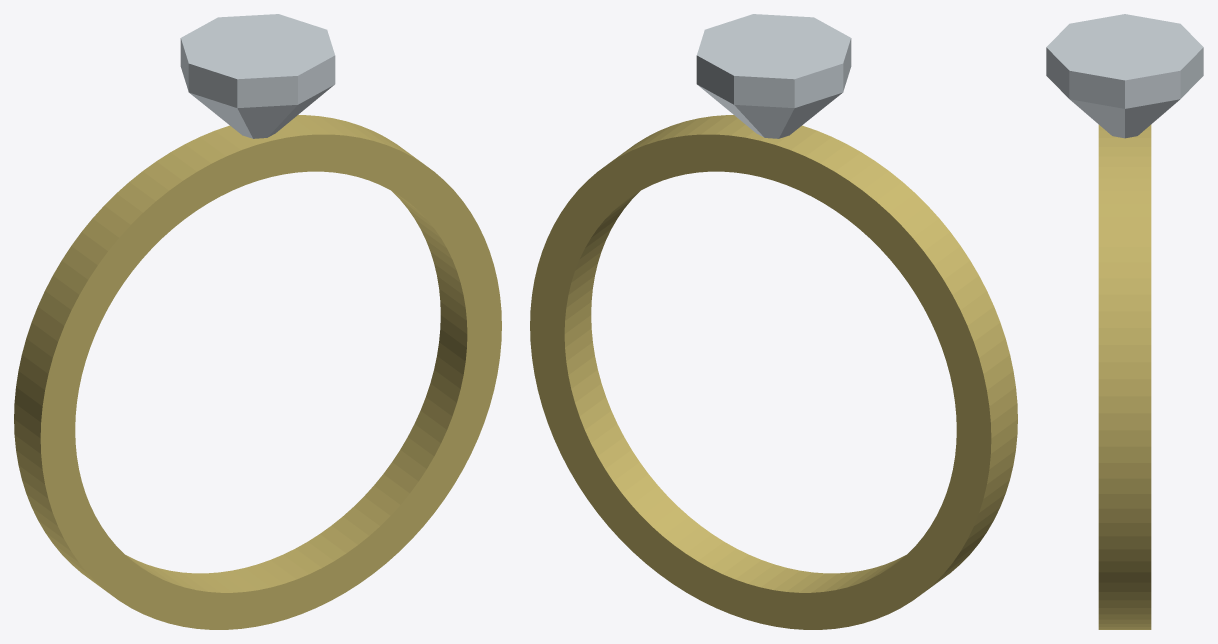
The model's file is demo-ring.glb.
3 renders of one model, left to right at view 1: azimuth 30°, elevation 25°; view 2: azimuth 150°, elevation 25°; view 3: azimuth 270°, elevation 25°, orthographic.
Parts seen in each view (by area): view 1: geometry_0, geometry_1; view 2: geometry_0, geometry_1; view 3: geometry_0, geometry_1.
Part boxes in pixels (x1=…): geometry_0: x1=14, y1=115, x2=501, y2=629; geometry_1: x1=180, y1=14, x2=335, y2=138; geometry_0: x1=530, y1=115, x2=1017, y2=629; geometry_1: x1=696, y1=14, x2=851, y2=138; geometry_0: x1=1098, y1=125, x2=1151, y2=629; geometry_1: x1=1046, y1=14, x2=1203, y2=138.
Size of the model in its own units: 20 by 23.5 by 6.
